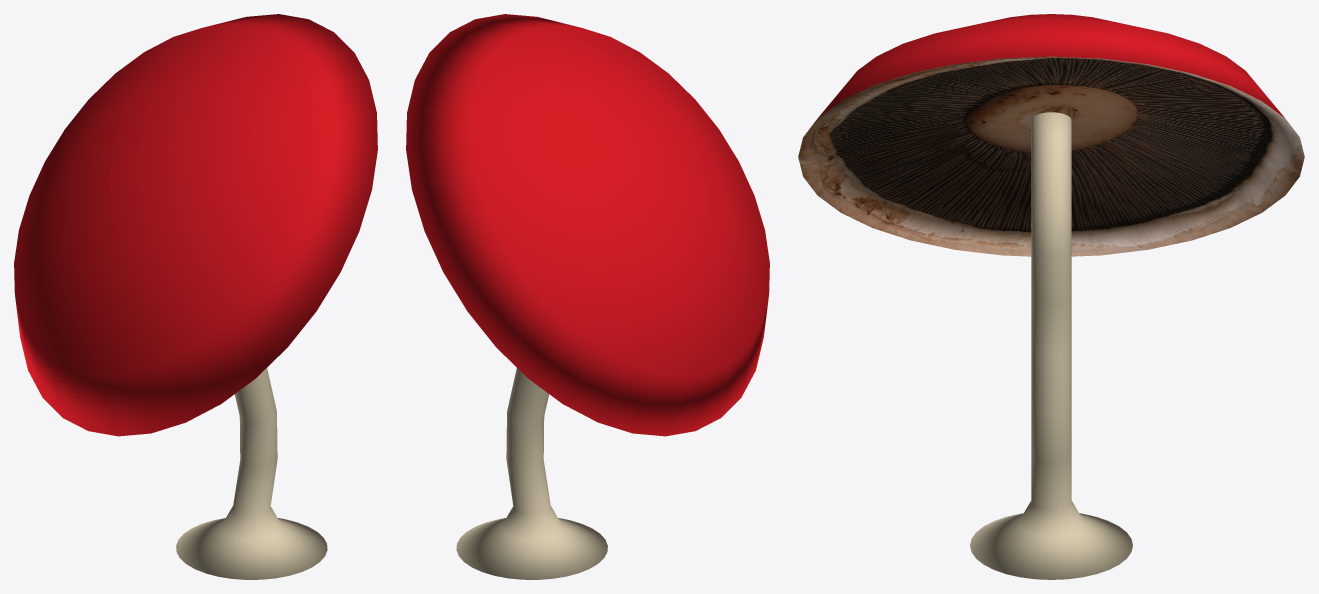
The model's file is champi53.fbx.
The picture shows the model from 3 angles, left to right: view 1: azimuth 30°, elevation 25°; view 2: azimuth 150°, elevation 25°; view 3: azimuth 270°, elevation 25°; orthographic projection. The views are drawn at different scales.
Parts seen in each view (by area): view 1: Cylinder; view 2: Cylinder; view 3: Cylinder.
Part boxes in pixels (box(x1,y1,x2,y2)): Cylinder: box(14, 14, 377, 579); Cylinder: box(406, 14, 769, 579); Cylinder: box(798, 14, 1304, 579).
Size of the model in its own units: 86.42 by 146 by 124.
